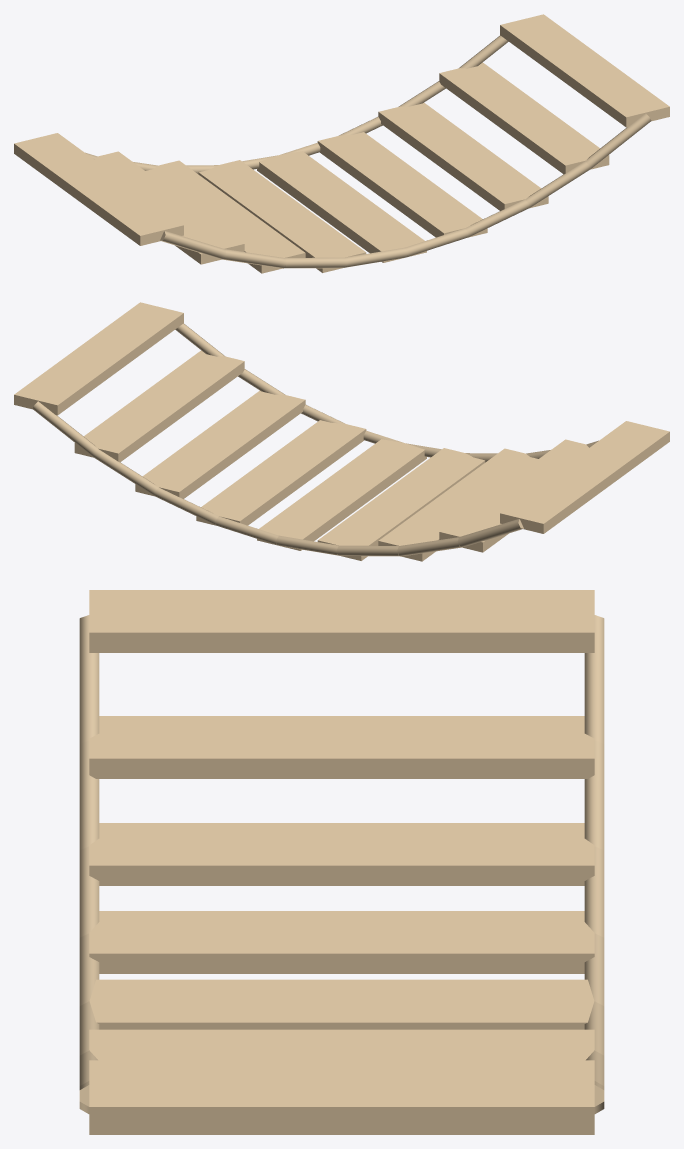
Rendered from prop_bridge.glb.
3 renders of one model, top to bottom at view 1: azimuth 30°, elevation 25°; view 2: azimuth 150°, elevation 25°; view 3: azimuth 270°, elevation 25°, orthographic. The views are drawn at different scales.
Visible parts, largest first — view 1: Bridge; view 2: Bridge; view 3: Bridge.
Boxes of the visible parts, x1=… form: Bridge: x1=14, y1=14, x2=669, y2=273; Bridge: x1=14, y1=302, x2=669, y2=561; Bridge: x1=79, y1=590, x2=604, y2=1134.
Bounding box in the file's own units: 2.18 × 0.34 × 0.9346.
